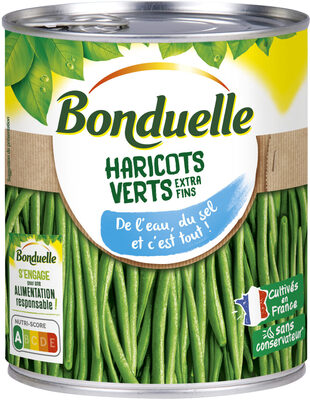Haricot verts: (15, 20, 294, 380)
